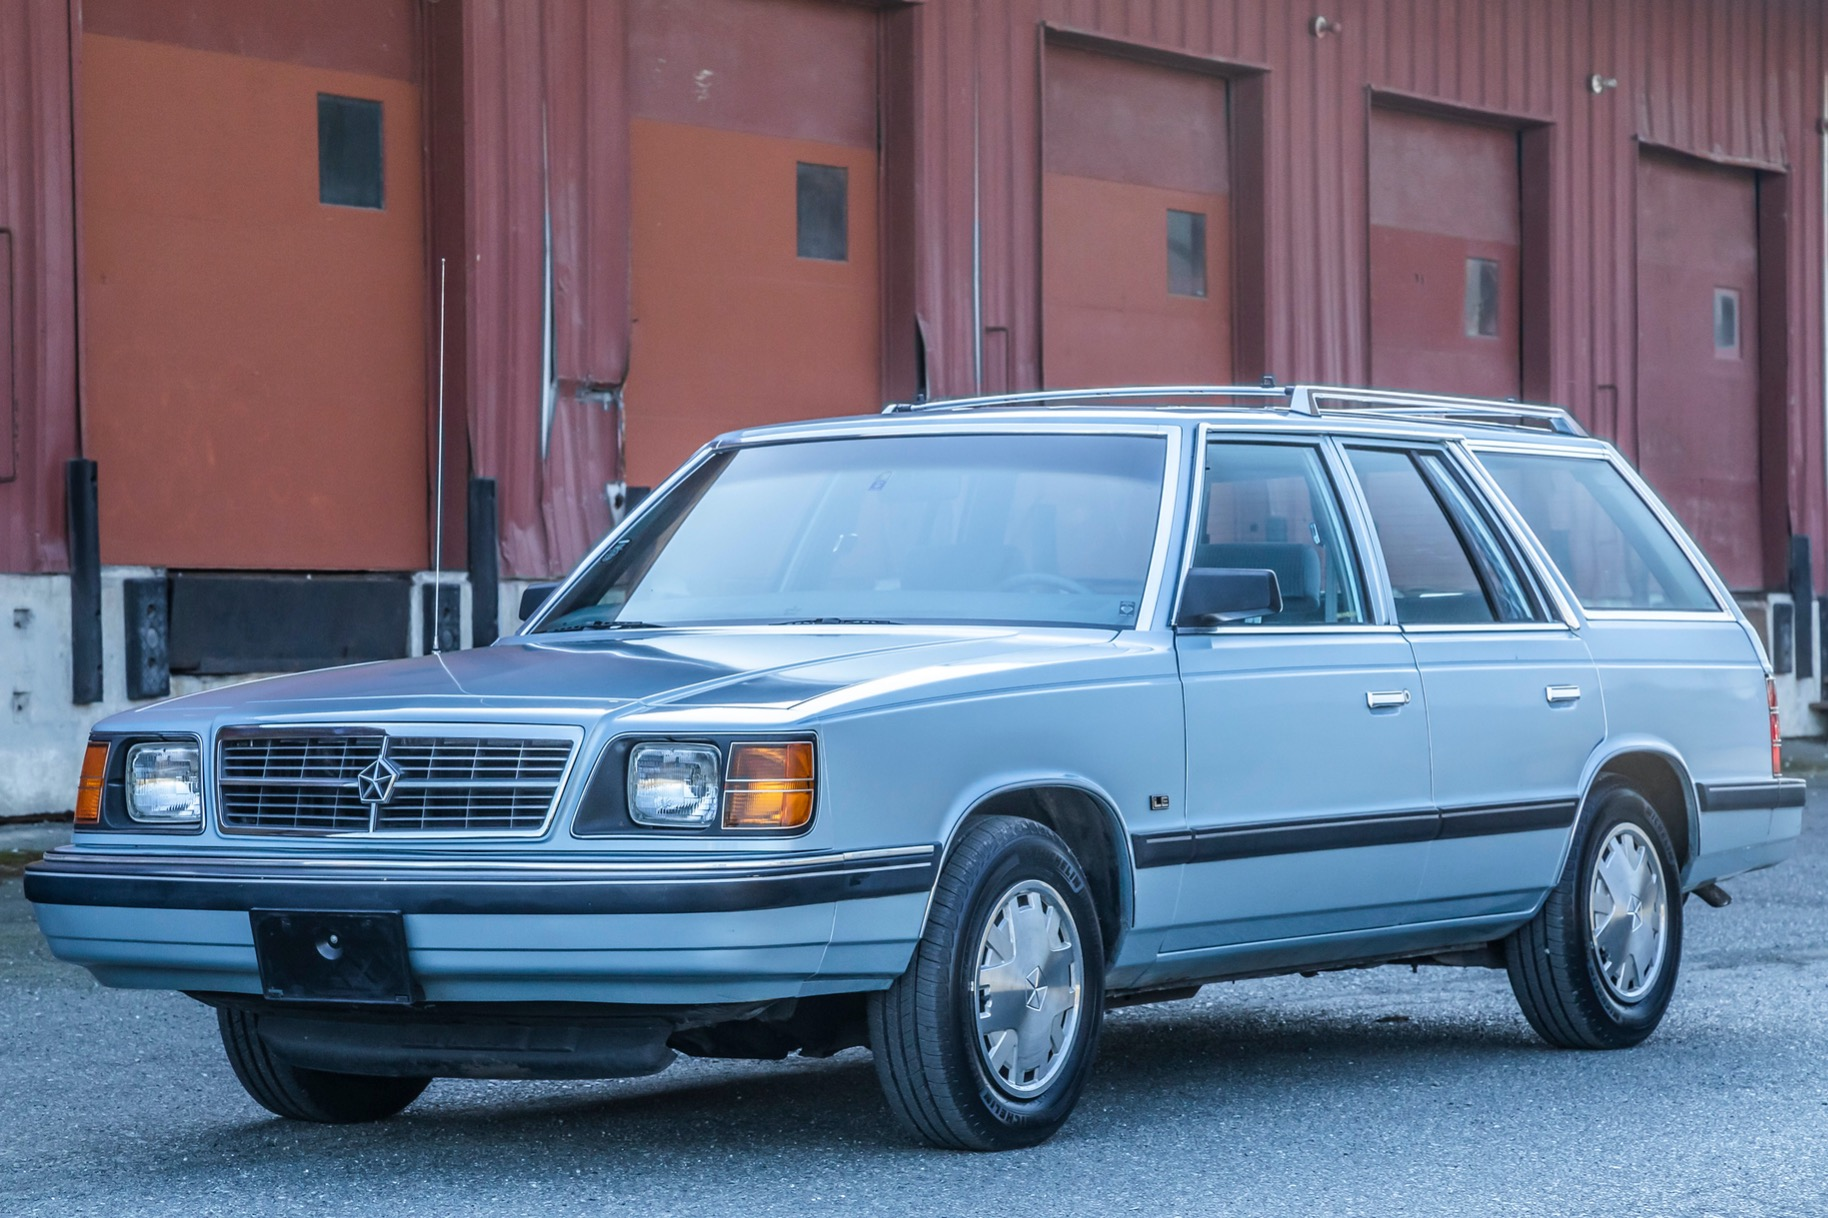car: (22, 381, 1806, 1155)
